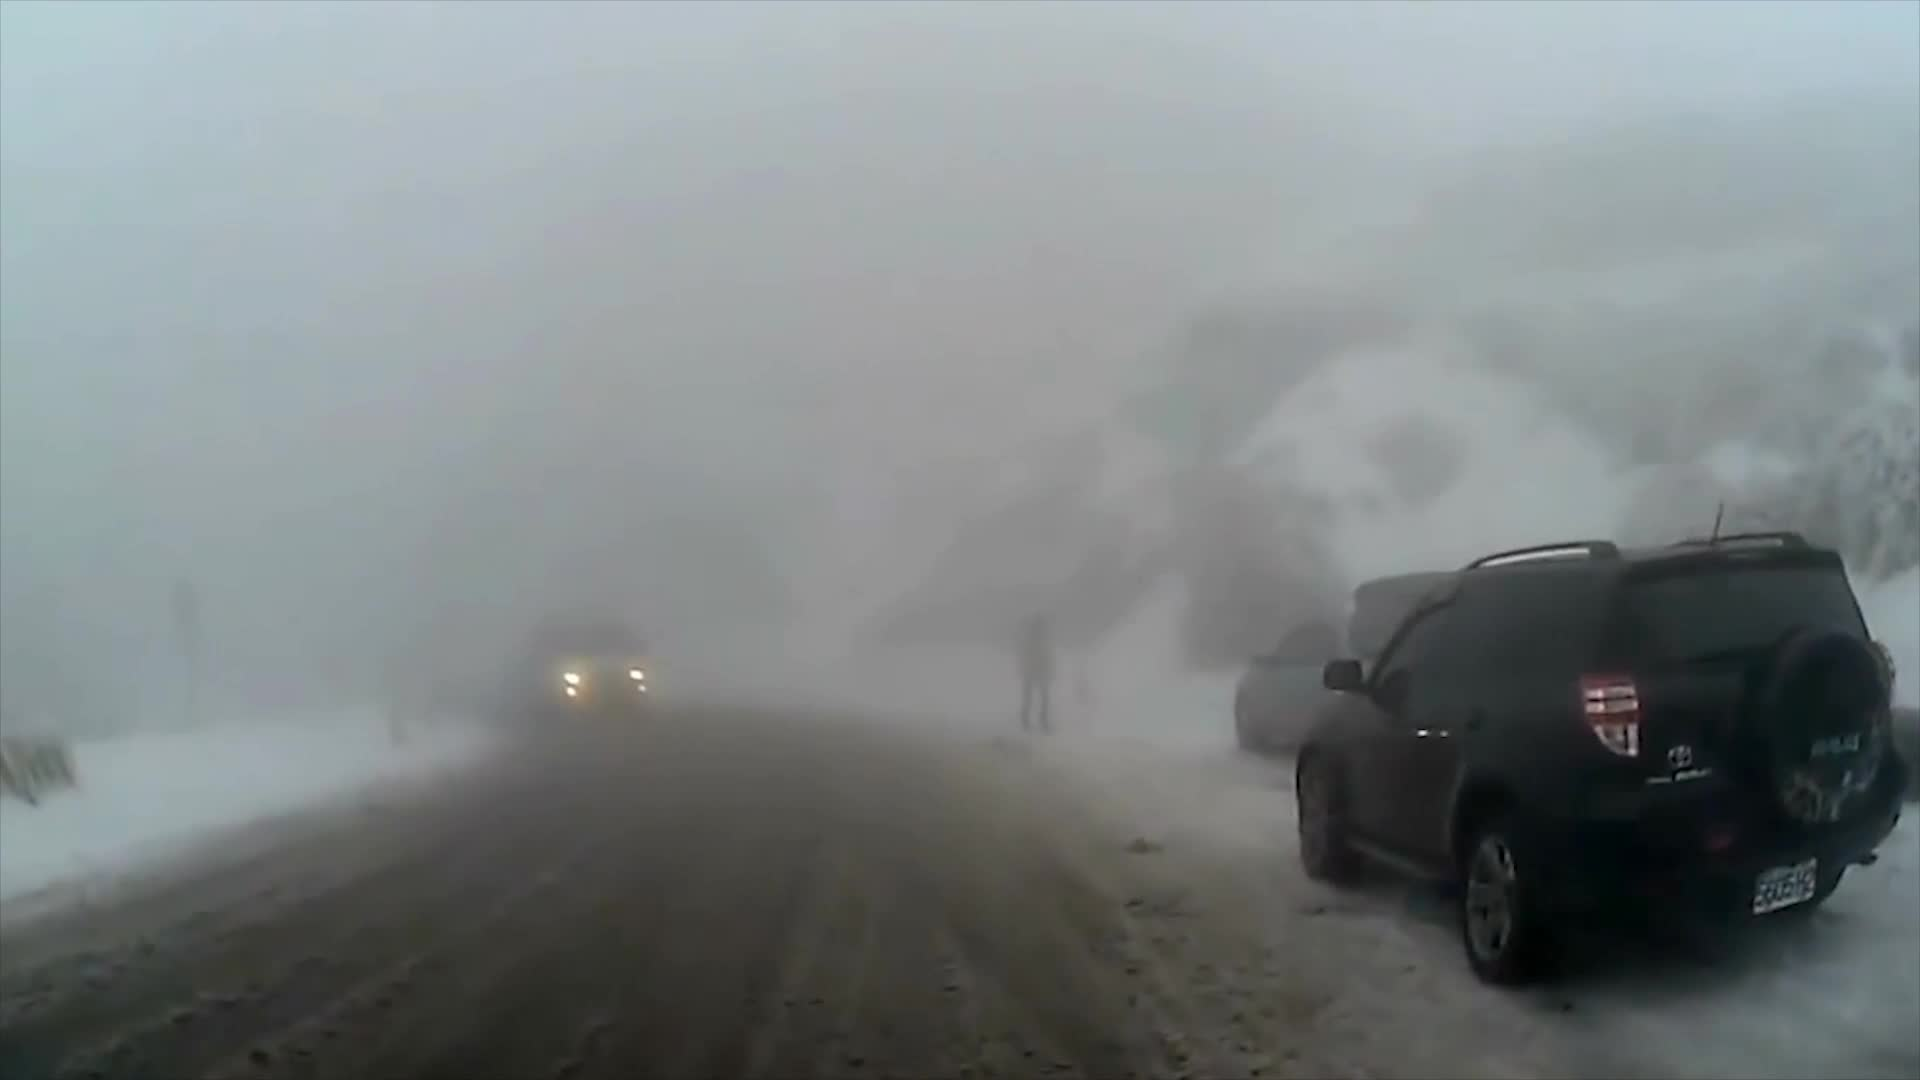pedestrian: (1014, 614, 1058, 730)
vehicle: (1292, 529, 1905, 992), (1234, 558, 1547, 765), (524, 607, 657, 722)
